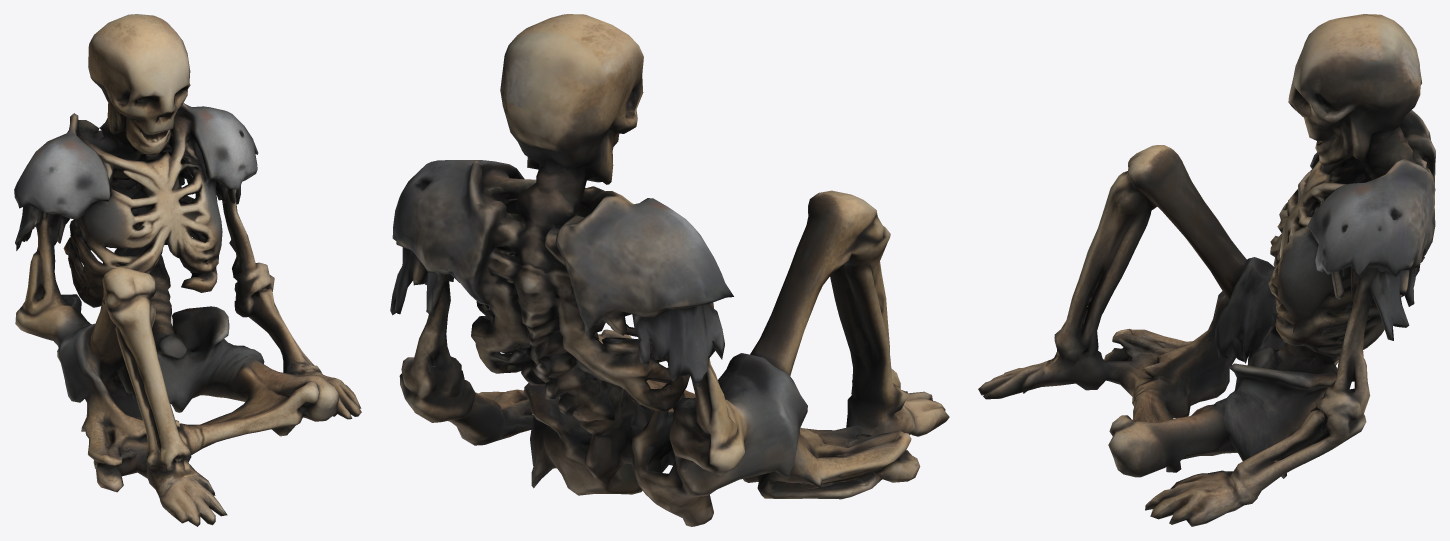
File: skeletal_remains_seated.glb
3 views of the same model, side by side, from view 1: azimuth 30°, elevation 25°; view 2: azimuth 150°, elevation 25°; view 3: azimuth 270°, elevation 25° (orthographic). The views are drawn at different scales.
Bounding box in the file's own units: 1.64 × 2 × 1.95.
1 material, 1 textured.
